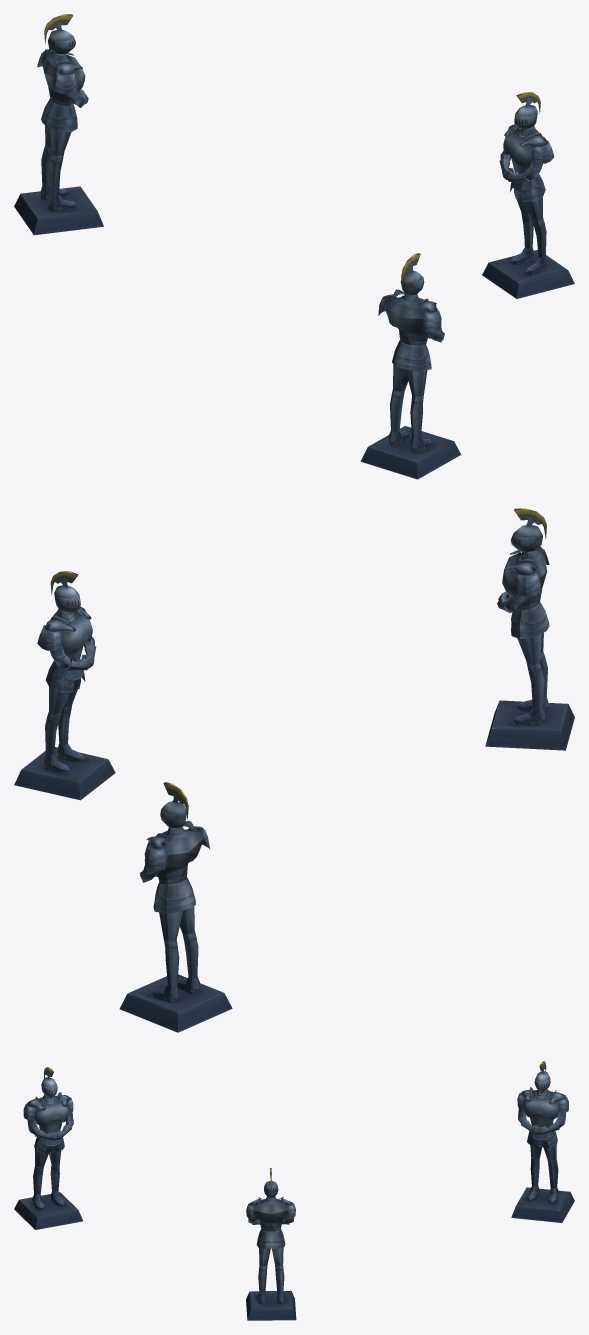
The model's file is wujian70.fbx.
The picture shows the model from 3 angles, top to bottom: view 1: azimuth 30°, elevation 25°; view 2: azimuth 150°, elevation 25°; view 3: azimuth 270°, elevation 25°; orthographic projection. The views are drawn at different scales.
Parts seen in each view (by area): view 1: wujian70; view 2: wujian70; view 3: wujian70.
Boxes of the visible parts, x1,y1,x2,y2 form: wujian70: (14, 14, 574, 479); wujian70: (14, 508, 574, 1032); wujian70: (14, 1061, 574, 1320).
Bounding box in the file's own units: 1260 × 685 × 2352.
Materials: 1 (1 with a texture image).
